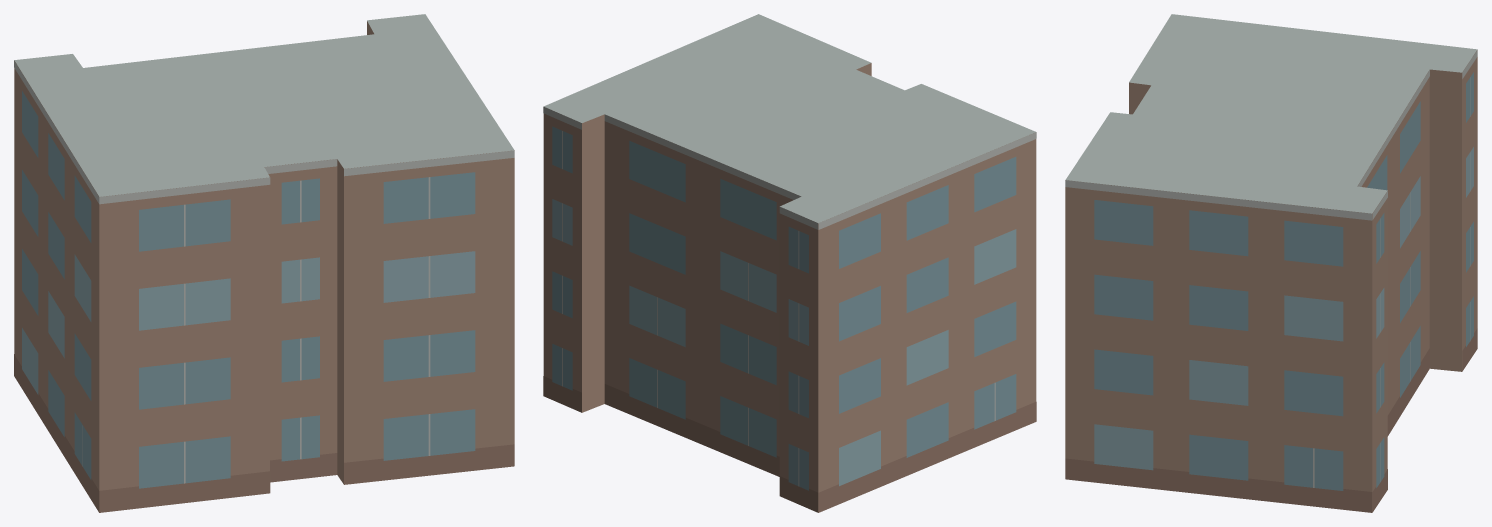
File: survey-upis-32805261.glb
3 views of the same model, side by side, from view 1: azimuth 30°, elevation 25°; view 2: azimuth 150°, elevation 25°; view 3: azimuth 270°, elevation 25° (orthographic). The views are drawn at different scales.
Visible parts, largest first — view 1: survey-upis-32805261.tmp; view 2: survey-upis-32805261.tmp; view 3: survey-upis-32805261.tmp.
Part boxes in pixels (x1,y1,x2,y2): survey-upis-32805261.tmp: (14, 14, 514, 512); survey-upis-32805261.tmp: (543, 14, 1036, 512); survey-upis-32805261.tmp: (1065, 14, 1477, 512).
Size of the model in its own units: 14.89 by 10.4 by 12.99.
